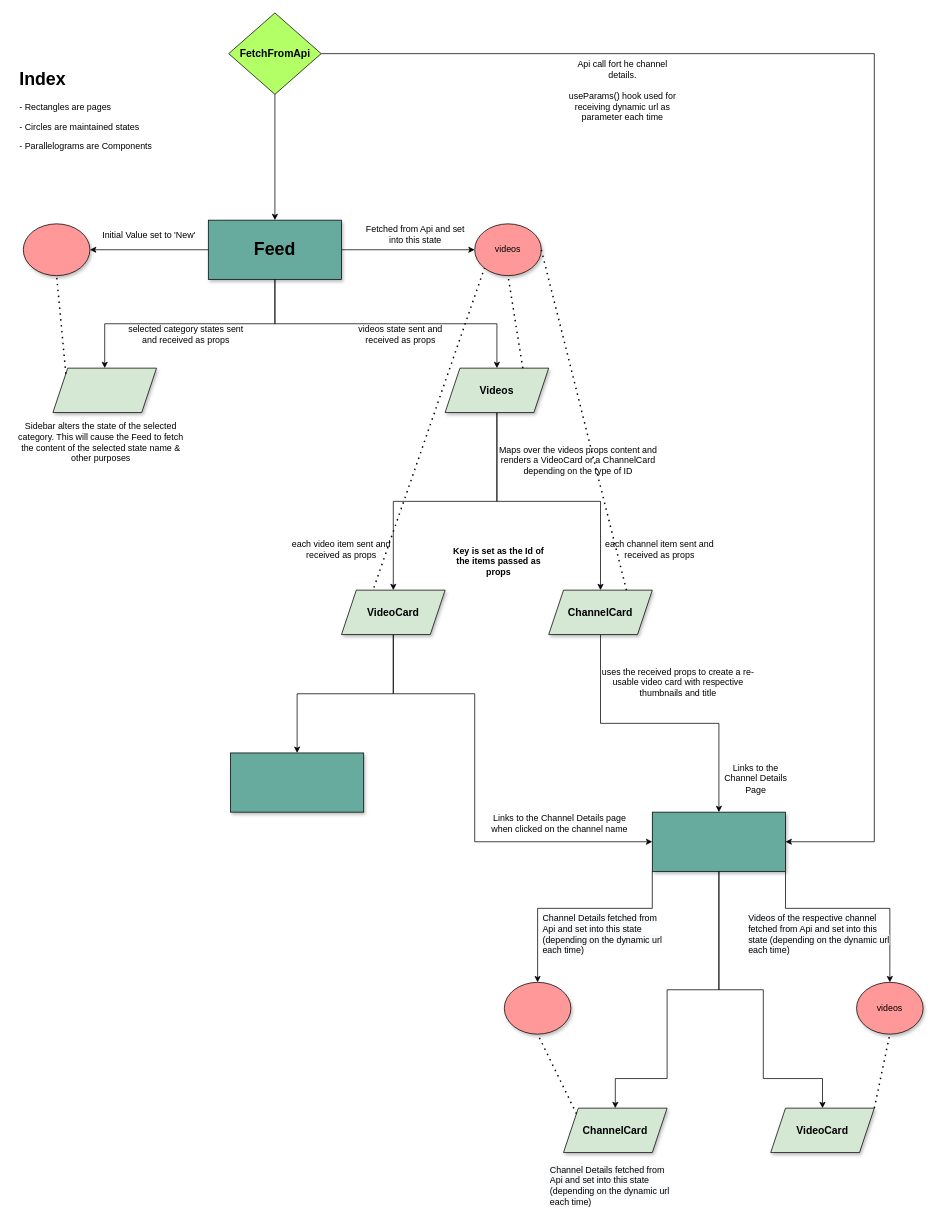
The diagram is 941 pixels wide and 1221 high, and some of its shapes have lost their labels. The shapes that lost their labels are listed below. From the top down, each one's centre as x and y in pixels, then its label:
At (57,250): "Selected Category".
At (105,391): "SideBar".
At (297,783): "Video Playing Page".
At (719,842): "ChannelDetail".
At (538,1009): "Channel Details".
